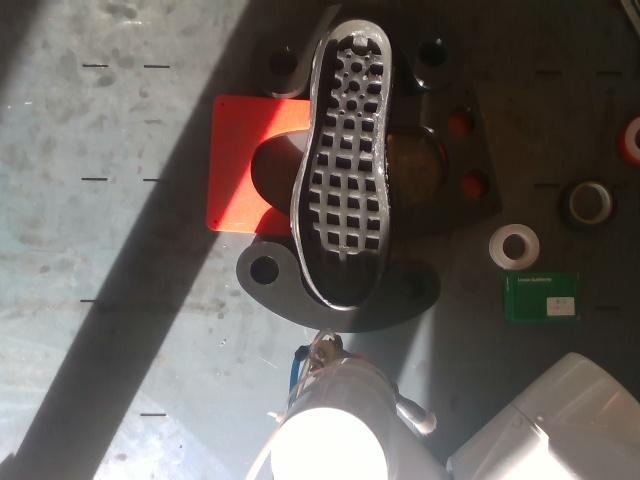shoes: (299, 20, 391, 308)
